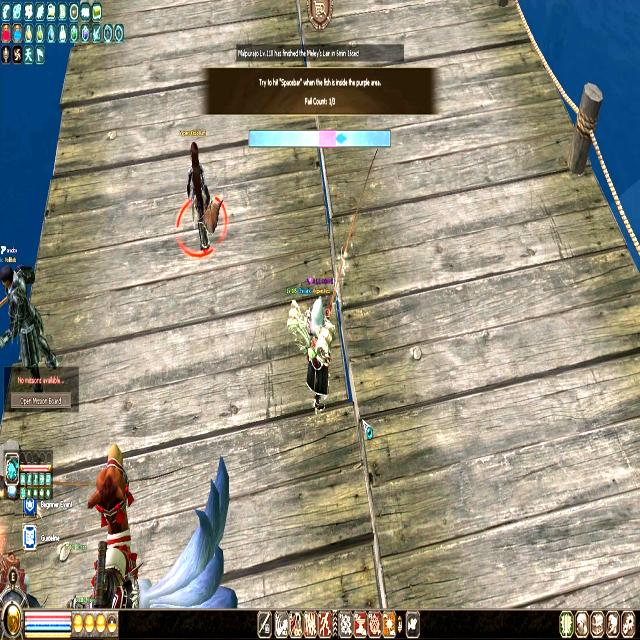fishes: (335, 131, 348, 146)
